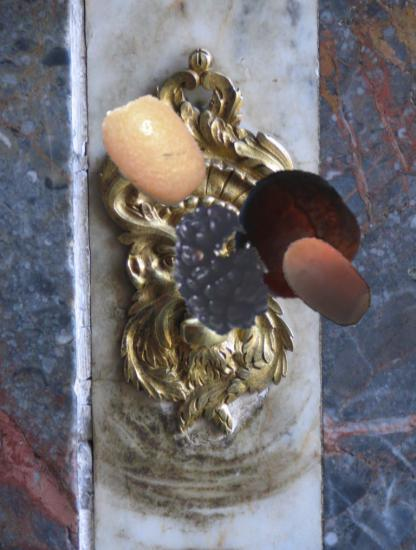Chestnut: (227, 170, 358, 301)
Hazelnut: (274, 227, 378, 331)
Kumquats: (94, 91, 213, 210)
Mulberry: (132, 208, 280, 356)
